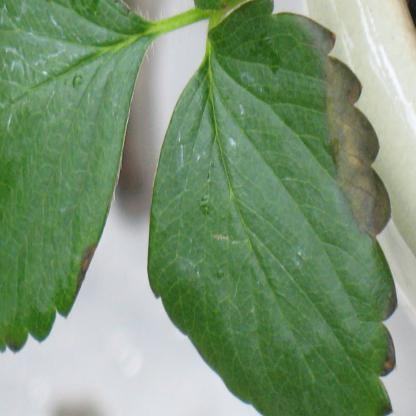Strawberry leaf: (152, 8, 392, 416)
